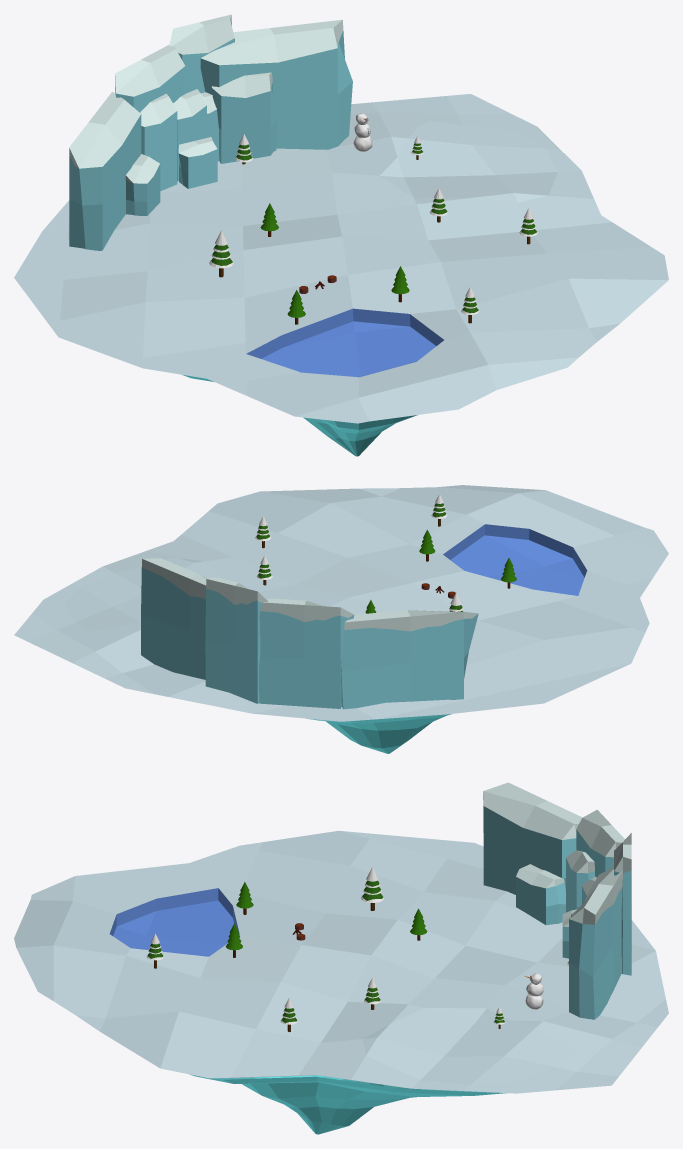
Rendered from Ice_Island.fbx.
3 views of the same model, one above another, from view 1: azimuth 30°, elevation 25°; view 2: azimuth 150°, elevation 25°; view 3: azimuth 270°, elevation 25° (orthographic). The views are drawn at different scales.
Visible parts, largest first — view 1: Vert.001, Cube.008, Cube.004, Cube.009, Cube.007, Cube.005, Cube.002, Vert, Cube.006, Cube.003, Cube; view 2: Vert.001, Cube.004, Cube.007, Cube.008, Cube.002, Vert; view 3: Vert.001, Cube.004, Cube.008, Vert, Cube.006, Cube.007, Cube.002, Cube.005, snowtree.
Boxes of the visible parts, box(x1,y1,x2,y2) form: Vert.001: box(14, 94, 668, 423); Cube.008: box(200, 19, 352, 149); Cube.004: box(69, 91, 141, 250); Cube.009: box(211, 72, 277, 163); Cube.007: box(115, 44, 185, 112); Cube.005: box(140, 93, 177, 191); Cube.002: box(169, 14, 234, 93); Vert: box(183, 375, 417, 456); Cube.006: box(125, 154, 160, 215); Cube.003: box(178, 137, 217, 188); Cube: box(173, 89, 206, 181); Vert.001: box(14, 485, 668, 721); Cube.004: box(341, 610, 478, 709); Cube.007: box(258, 598, 354, 708); Cube.008: box(141, 558, 206, 679); Cube.002: box(205, 577, 267, 703); Vert: box(307, 714, 451, 753); Vert.001: box(14, 830, 668, 1093); Cube.004: box(483, 782, 582, 894); Cube.008: box(569, 867, 622, 1019); Vert: box(189, 1074, 506, 1134); Cube.006: box(516, 864, 565, 925); Cube.007: box(576, 809, 624, 877); Cube.002: box(614, 833, 631, 975); Cube.005: box(566, 850, 594, 912); snowtree: box(361, 867, 384, 910).
Size of the model in its own units: 10955 by 5657 by 11460.
